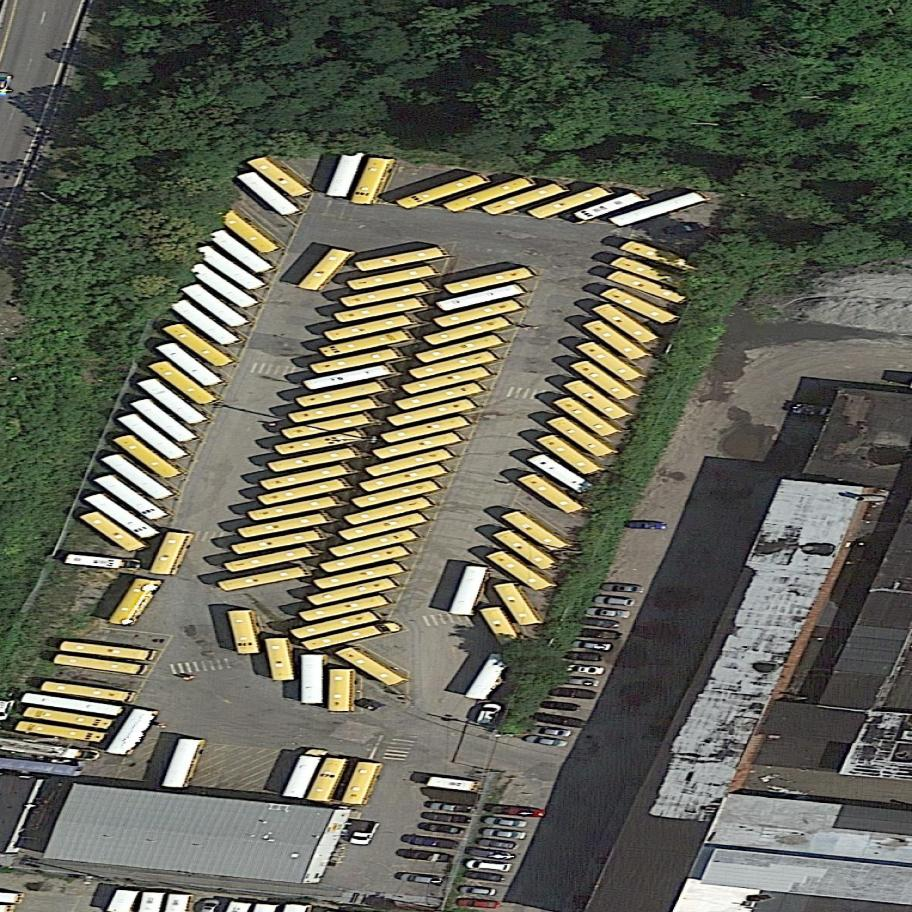large-vehicle: (81, 486, 164, 549), (188, 236, 270, 299), (181, 254, 262, 317), (116, 404, 193, 469), (166, 290, 241, 354), (136, 369, 210, 433), (99, 446, 176, 507), (93, 468, 171, 528), (209, 200, 283, 263), (161, 315, 237, 376), (112, 426, 185, 489), (147, 353, 220, 414), (129, 390, 201, 451), (606, 189, 707, 232), (206, 221, 277, 282), (244, 148, 317, 207), (236, 164, 305, 226), (156, 335, 226, 396), (393, 170, 490, 214), (180, 277, 252, 336), (544, 407, 617, 465), (498, 501, 571, 559), (442, 173, 537, 217), (516, 464, 588, 522), (574, 333, 647, 390), (525, 446, 600, 501), (484, 543, 555, 599), (568, 351, 637, 408), (590, 296, 660, 352), (551, 390, 622, 445), (491, 521, 559, 578), (535, 426, 604, 482), (78, 503, 147, 559), (581, 312, 648, 369), (607, 251, 697, 293), (300, 617, 405, 653), (104, 569, 161, 635), (605, 265, 694, 307), (599, 282, 678, 329), (562, 373, 630, 427), (279, 738, 331, 808), (335, 640, 406, 691), (525, 182, 611, 224), (103, 699, 158, 764), (479, 180, 568, 220), (476, 599, 530, 664), (462, 643, 515, 708), (304, 574, 401, 609), (349, 476, 443, 512), (341, 493, 435, 529), (565, 188, 647, 229), (391, 379, 485, 414), (620, 237, 704, 276), (288, 608, 384, 642), (363, 445, 456, 480), (421, 313, 514, 348), (337, 509, 430, 544), (385, 396, 480, 430), (400, 363, 495, 397), (356, 461, 451, 495), (430, 297, 525, 331), (317, 542, 414, 575), (311, 560, 410, 592), (408, 347, 501, 381), (298, 242, 353, 299), (414, 332, 506, 366), (329, 526, 421, 560), (378, 413, 472, 446), (443, 264, 537, 297), (253, 476, 349, 508), (370, 429, 463, 462), (435, 281, 527, 314), (19, 690, 127, 718), (294, 593, 391, 624), (492, 574, 542, 634), (318, 328, 412, 359), (257, 462, 350, 493), (161, 731, 206, 795), (322, 313, 414, 344), (337, 280, 432, 310), (345, 263, 439, 293), (307, 347, 404, 376), (267, 445, 360, 475), (273, 428, 366, 458), (221, 545, 314, 575), (234, 512, 329, 541), (305, 749, 350, 810), (294, 379, 385, 409), (287, 396, 380, 425), (301, 363, 394, 392), (279, 412, 372, 441), (333, 296, 426, 325), (216, 565, 309, 594), (228, 529, 324, 557), (447, 559, 490, 621), (339, 754, 384, 813), (354, 245, 447, 273), (245, 496, 340, 523), (349, 151, 391, 211), (23, 704, 116, 731), (147, 524, 189, 582), (17, 719, 109, 745), (326, 145, 366, 204), (51, 652, 146, 676), (58, 639, 154, 662), (39, 680, 134, 703), (228, 606, 264, 658), (264, 633, 298, 684), (65, 552, 142, 572), (300, 653, 328, 705), (328, 667, 354, 712)
small-vehicle: (526, 709, 590, 731), (399, 832, 461, 851), (349, 814, 379, 851), (396, 847, 456, 865), (521, 732, 573, 751), (464, 857, 513, 874), (416, 821, 466, 837), (549, 686, 600, 701), (473, 703, 506, 726), (467, 846, 514, 862), (421, 811, 473, 825), (394, 872, 448, 885), (575, 627, 625, 641), (479, 827, 528, 841), (483, 815, 528, 830), (584, 606, 634, 619), (663, 221, 709, 235), (476, 837, 522, 851), (460, 869, 506, 883), (531, 725, 576, 739), (426, 801, 477, 813), (539, 700, 586, 713), (580, 616, 622, 630), (600, 582, 645, 595), (590, 596, 638, 608), (562, 650, 605, 663), (570, 640, 614, 651), (565, 675, 602, 688), (567, 664, 607, 676), (457, 898, 500, 909), (458, 886, 497, 896), (625, 522, 668, 530)
